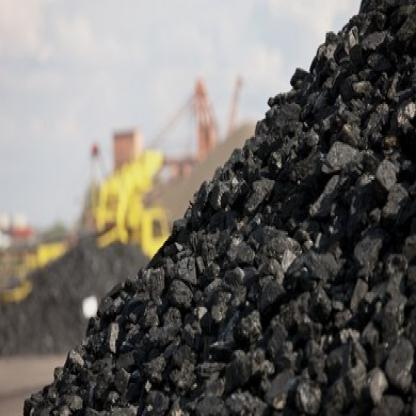Sedimentary_coal: (323, 132, 364, 180), (239, 170, 269, 213), (138, 267, 172, 294)
